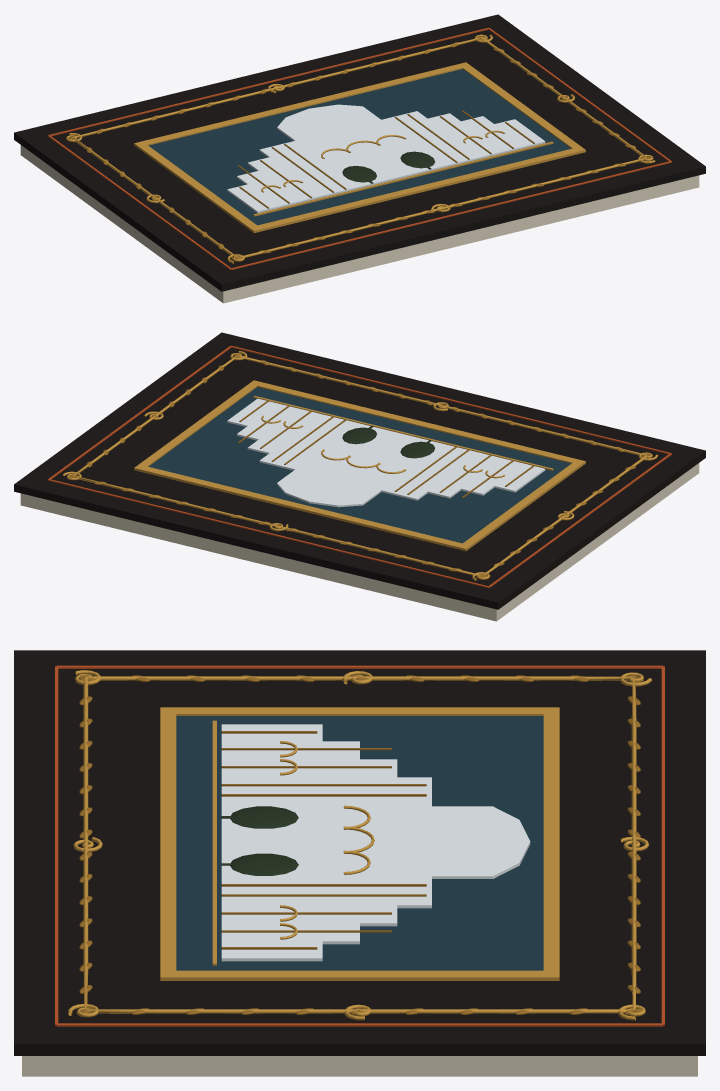
Rendered from scan-fig71-blotting-book-muse.glb.
The picture shows the model from 3 angles, top to bottom: view 1: azimuth 30°, elevation 25°; view 2: azimuth 150°, elevation 25°; view 3: azimuth 270°, elevation 25°; orthographic projection. The views are drawn at different scales.
Visible parts, largest first — view 1: CoverSlab, PalaceSilhouette, PanelGround, PageBlock, VineStem, FrameY-1, FrameY1, FrameX-1, FrameX1, PinstripeY-1, PinstripeY1, PalaceGroundLine (+2 smaller); view 2: CoverSlab, PalaceSilhouette, PanelGround, PageBlock, VineStem, FrameY1, FrameY-1, FrameX-1, FrameX1, PinstripeY1, PinstripeY-1, PalaceGroundLine (+3 smaller); view 3: CoverSlab, PanelGround, PalaceSilhouette, PageBlock, VineStem, FrameY-1, FrameY1, FrameX1, FrameX-1, PinstripeX1, PinstripeX-1, PinstripeY-1 (+4 smaller).
Boxes of the visible parts, box(x1,y1,x2,y2) form: CoverSlab: box(14, 14, 705, 291); PalaceSilhouette: box(227, 104, 545, 213); PanelGround: box(149, 69, 571, 225); PageBlock: box(20, 145, 699, 303); VineStem: box(73, 37, 646, 257); FrameY-1: box(249, 146, 583, 232); FrameY1: box(134, 64, 468, 146); FrameX-1: box(134, 143, 262, 232); FrameX1: box(458, 62, 585, 153); PinstripeY-1: box(231, 161, 671, 269); PinstripeY1: box(48, 27, 488, 136); PalaceGroundLine: box(253, 141, 553, 216); CoverSlab: box(14, 332, 705, 609); PalaceSilhouette: box(227, 398, 545, 507); PanelGround: box(148, 387, 570, 543); PageBlock: box(20, 463, 699, 621); VineStem: box(73, 355, 646, 575); FrameY1: box(136, 464, 469, 550); FrameY-1: box(249, 380, 585, 466); FrameX-1: box(457, 463, 580, 550); FrameX1: box(134, 380, 261, 471); PinstripeY1: box(48, 479, 488, 587); PinstripeY-1: box(231, 345, 671, 454); PalaceGroundLine: box(253, 396, 553, 470); CoverSlab: box(14, 650, 705, 1055); PanelGround: box(176, 716, 543, 970); PalaceSilhouette: box(221, 724, 530, 961); PageBlock: box(22, 1056, 697, 1076); VineStem: box(83, 676, 636, 1013); FrameY-1: box(160, 708, 176, 980); FrameY1: box(543, 707, 559, 980); FrameX1: box(160, 970, 559, 980); FrameX-1: box(160, 707, 559, 715); PinstripeX1: box(56, 1023, 663, 1026); PinstripeX-1: box(56, 665, 663, 668); PinstripeY-1: box(55, 666, 58, 1025).
Size of the model in its own units: 0.35 by 0.0184 by 0.26.
